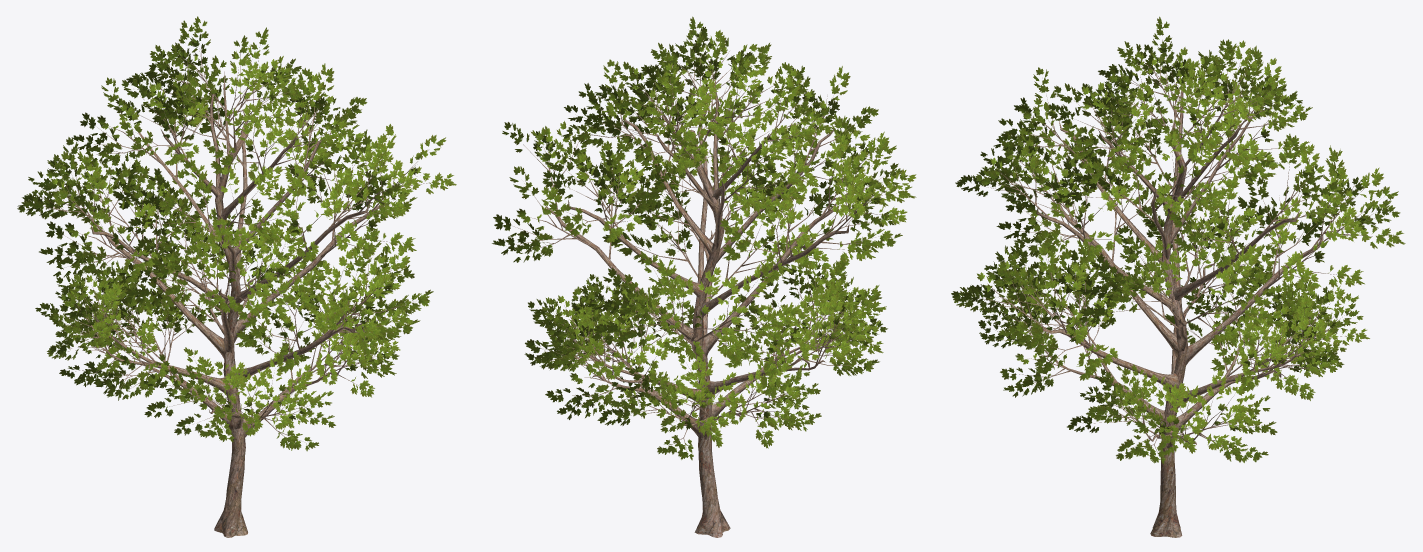
The model's file is tree.obj.
The picture shows the model from 3 angles, left to right: view 1: azimuth 30°, elevation 25°; view 2: azimuth 150°, elevation 25°; view 3: azimuth 270°, elevation 25°; orthographic projection.
Parts seen in each view (by area): view 1: leaf_maple, trunk; view 2: leaf_maple, trunk; view 3: leaf_maple, trunk.
Part boxes in pixels (x1,y1,x2,y2): leaf_maple: [17, 16, 456, 451]; trunk: [34, 32, 437, 537]; leaf_maple: [492, 16, 916, 460]; trunk: [508, 37, 896, 537]; leaf_maple: [951, 16, 1405, 464]; trunk: [971, 35, 1388, 537].
Size of the model in its own units: 688 by 771 by 649.
2 materials, 2 textured.
